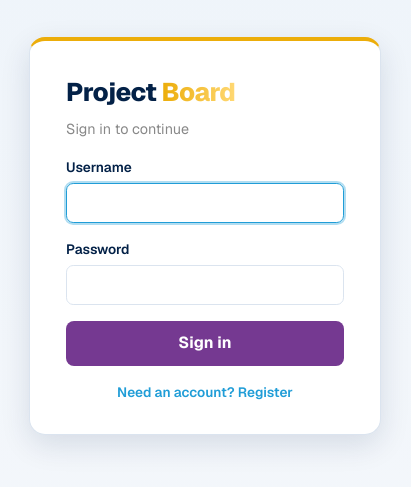
Test: LoginForm › clears a previous error once credentials are corrected
Step 1. Type "user" into the field labelled "Username" → (205, 203), box [66,183,344,223]
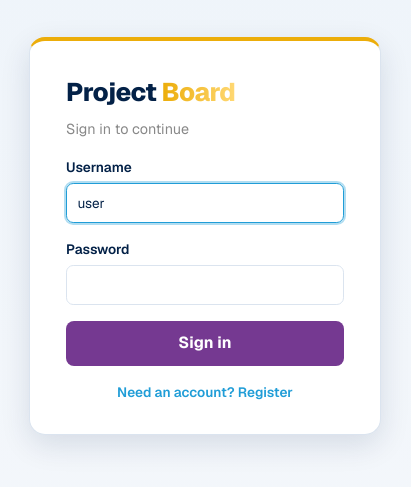
Step 2. Type "wrong" into the password field labelled "Password" → (205, 285), box [66,265,344,305]
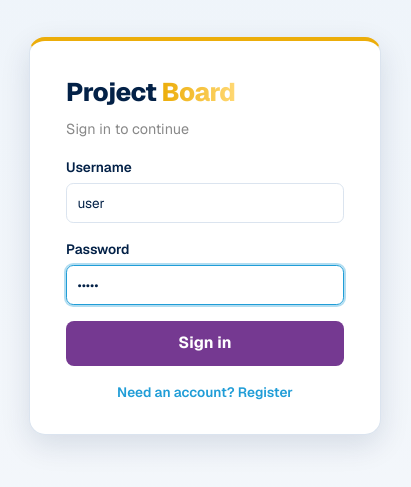
Step 3. Click the button "Sign in" → (205, 343), box [66,321,344,366]
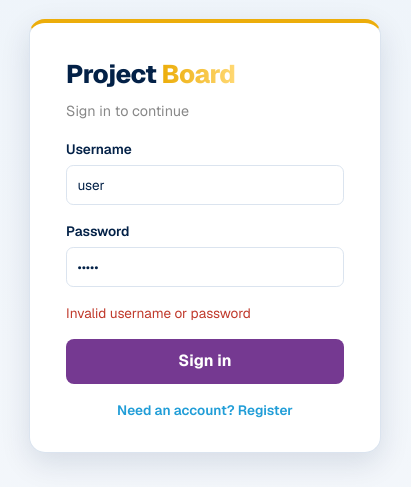
Now the message "Invalid username or password" is shown, box [66,304,251,322]
Step 4. Type "password" into the password field labelled "Password" → (205, 267), box [66,247,344,287]
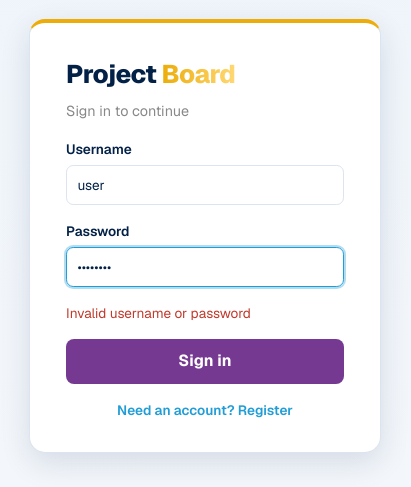
Step 5. Click the button "Sign in" → (205, 362), box [66,339,344,384]
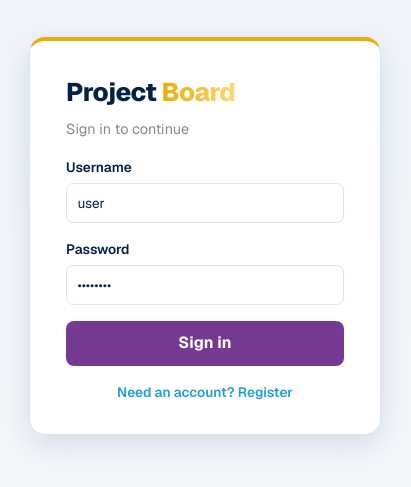
Now the message "Invalid username or password" is gone
